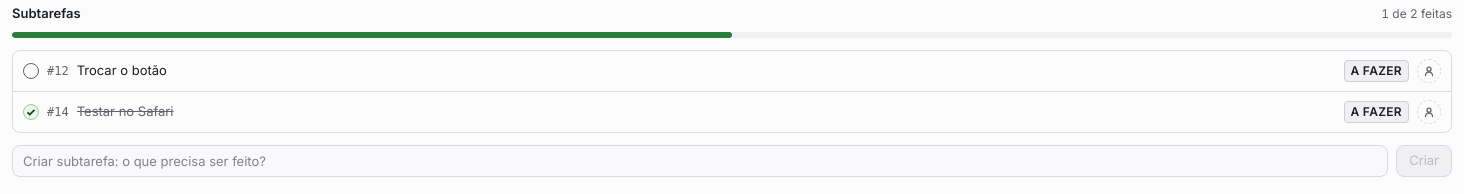
Test case: as subtarefas do card aberto › o circulo marca: leva para a ultima coluna ativa, avisa, rele a lista e avisa o pai
Click the button named "Marcar #12 como feita" at (31, 70), box [23,62,39,78]
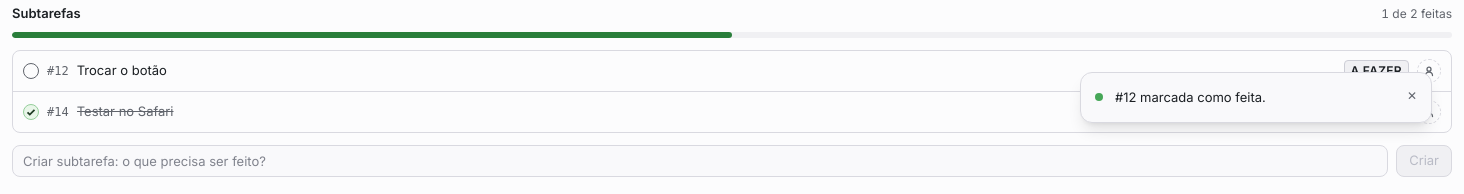
Expected: the text "#12 marcada como feita." is shown, [1115,89,1266,105]
